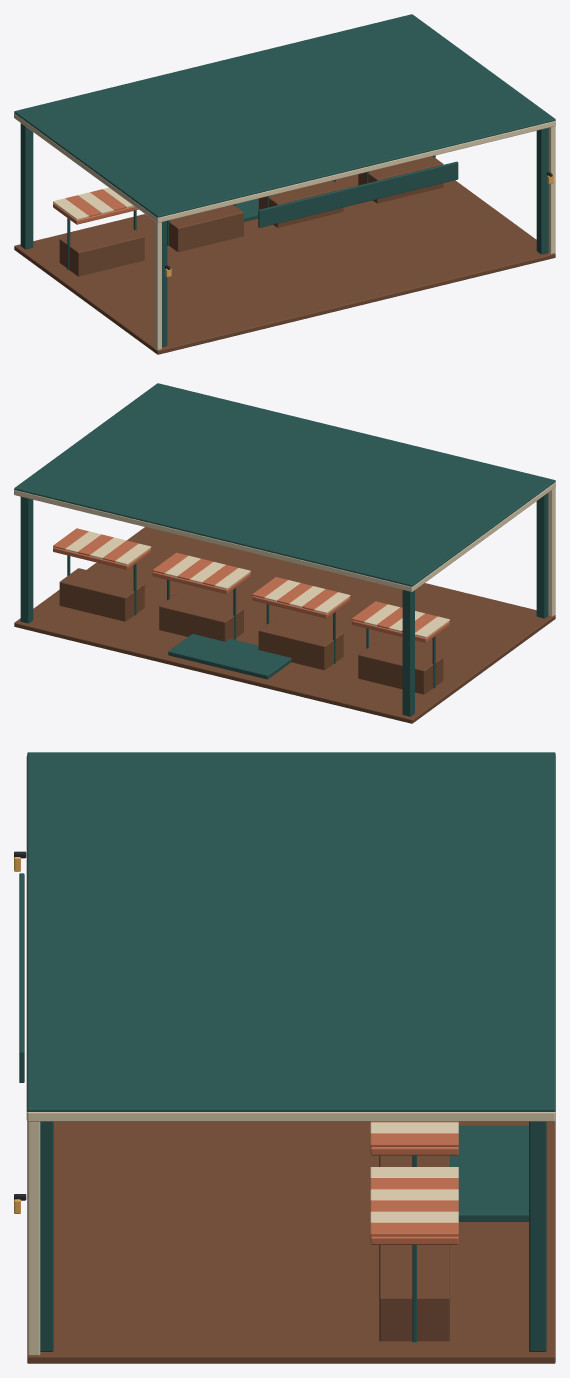
The picture shows the model from 3 angles, top to bottom: view 1: azimuth 30°, elevation 25°; view 2: azimuth 150°, elevation 25°; view 3: azimuth 270°, elevation 25°; orthographic projection. The views are drawn at different scales.
Visible parts, largest first — view 1: Roof_RemoveForInteriorReview, Floor, NQ-SGN-04, Counter, Counter.001, CreamRoofCornice, CanopyColumn.001, CanopyColumn.002, Counter.003, Counter.002, CornerTrim, CornerTrim.001 (+3 smaller); view 2: Roof_RemoveForInteriorReview, Floor, Counter.003, Counter.001, Counter.002, SmallPerformancePlatform, Counter, CreamRoofCornice.001, CanopyColumn.003, CanopyColumn.001, CanopyColumn, CornerTrim (+5 smaller); view 3: Roof_RemoveForInteriorReview, Floor, SmallPerformancePlatform, Counter.003, CreamSideCornice.001, CanopyColumn.003, CanopyColumn.002, CornerTrim.001, StallCanopyStripe.023, NQ-SGN-04, StallCanopyStripe.017, StallCanopyStripe.016 (+9 smaller).
Part boxes in pixels (x1=…): Roof_RemoveForInteriorReview: x1=14, y1=14, x2=555, y2=217; Floor: x1=14, y1=174, x2=555, y2=354; NQ-SGN-04: x1=258, y1=161, x2=458, y2=227; Counter: x1=59, y1=223, x2=144, y2=276; Counter.001: x1=169, y1=205, x2=243, y2=252; CreamRoofCornice: x1=157, y1=121, x2=555, y2=222; CanopyColumn.001: x1=20, y1=123, x2=33, y2=249; CanopyColumn.002: x1=536, y1=128, x2=548, y2=254; Counter.003: x1=358, y1=156, x2=443, y2=203; Counter.002: x1=258, y1=180, x2=343, y2=227; CornerTrim: x1=154, y1=221, x2=161, y2=350; CornerTrim.001: x1=548, y1=126, x2=555, y2=254; Roof_RemoveForInteriorReview: x1=14, y1=383, x2=555, y2=586; Floor: x1=14, y1=527, x2=555, y2=723; Counter.003: x1=59, y1=568, x2=144, y2=621; Counter.001: x1=258, y1=617, x2=343, y2=670; Counter.002: x1=159, y1=592, x2=243, y2=641; SmallPerformancePlatform: x1=168, y1=634, x2=291, y2=679; Counter: x1=358, y1=641, x2=443, y2=694; CreamRoofCornice.001: x1=14, y1=490, x2=412, y2=591; CanopyColumn.003: x1=20, y1=497, x2=33, y2=623; CanopyColumn.001: x1=402, y1=590, x2=414, y2=716; CanopyColumn: x1=536, y1=493, x2=548, y2=618; CornerTrim: x1=548, y1=487, x2=555, y2=616; Roof_RemoveForInteriorReview: x1=27, y1=752, x2=555, y2=1111; Floor: x1=27, y1=1121, x2=555, y2=1363; SmallPerformancePlatform: x1=450, y1=1125, x2=528, y2=1221; Counter.003: x1=379, y1=1245, x2=449, y2=1341; CreamSideCornice.001: x1=27, y1=1112, x2=555, y2=1121; CanopyColumn.003: x1=529, y1=1121, x2=546, y2=1351; CanopyColumn.002: x1=40, y1=1121, x2=53, y2=1351; CornerTrim.001: x1=28, y1=1121, x2=40, y2=1355; StallCanopyStripe.023: x1=370, y1=1222, x2=458, y2=1236; NQ-SGN-04: x1=19, y1=873, x2=24, y2=1082; StallCanopyStripe.017: x1=370, y1=1133, x2=458, y2=1146; StallCanopyStripe.016: x1=370, y1=1122, x2=458, y2=1133.
Bounding box in the file's own units: 48.05 × 16 × 30.77.
